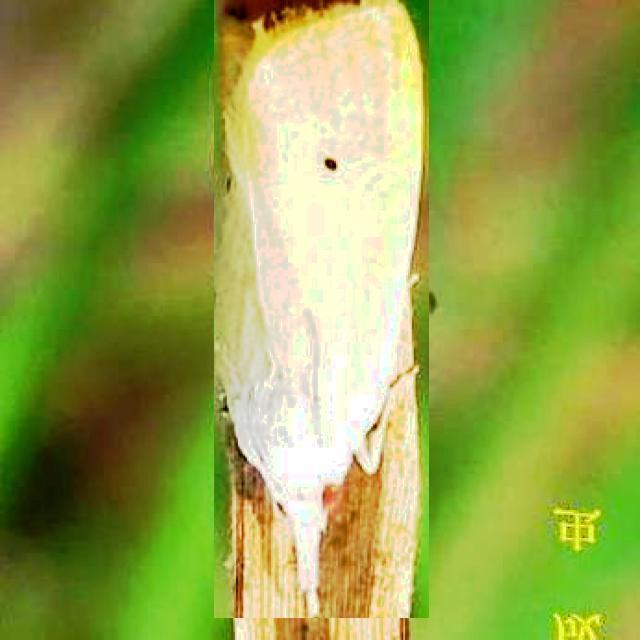stem-borer: (214, 0, 429, 618)
